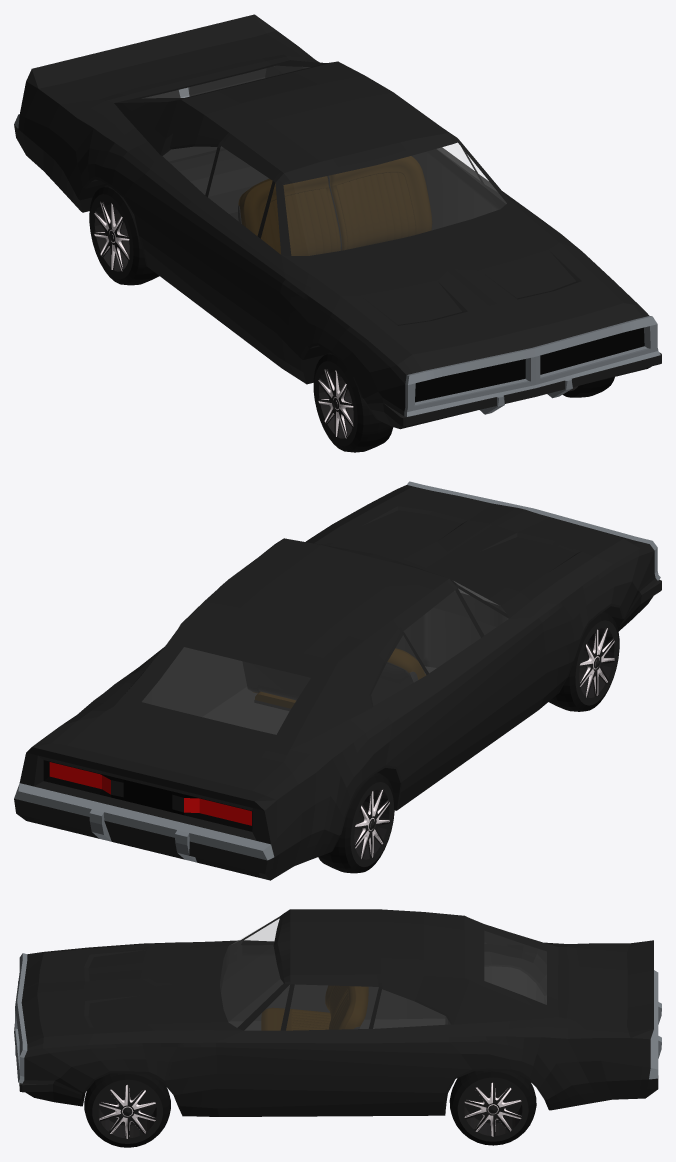
Rendered from brewMobile.glb.
3 views of the same model, one above another, from view 1: azimuth 30°, elevation 25°; view 2: azimuth 150°, elevation 25°; view 3: azimuth 270°, elevation 25° (orthographic). The views are drawn at different scales.
Visible parts, largest first — view 1: Plane_Plane.002, Seat, Circle.002, Circle.001; view 2: Plane_Plane.002, Circle.001, Circle.002, Seat; view 3: Plane_Plane.002, Circle.004, Circle.003, Seat.
Part boxes in pixels (bbox=[...]): Plane_Plane.002: bbox=[14, 14, 661, 429]; Seat: bbox=[238, 156, 432, 255]; Circle.002: bbox=[313, 352, 393, 452]; Circle.001: bbox=[89, 184, 159, 285]; Plane_Plane.002: bbox=[14, 481, 661, 880]; Circle.001: bbox=[318, 772, 394, 873]; Circle.002: bbox=[549, 611, 619, 711]; Seat: bbox=[242, 648, 426, 711]; Plane_Plane.002: bbox=[14, 909, 661, 1116]; Circle.004: bbox=[449, 1070, 536, 1145]; Circle.003: bbox=[84, 1073, 170, 1147]; Seat: bbox=[261, 985, 368, 1030].
Bounding box in the file's own units: 2.56 × 1.77 × 6.48.
